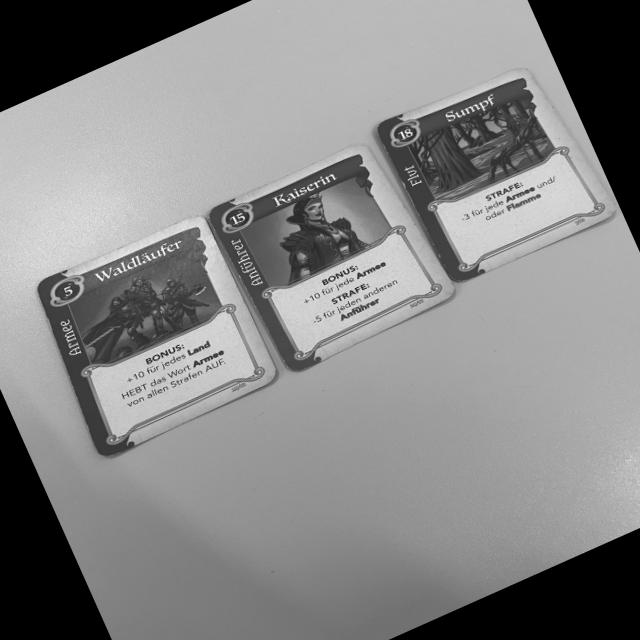Empress: (209, 140, 459, 377)
Rangers: (33, 209, 285, 467)
Swamp: (375, 63, 622, 287)
